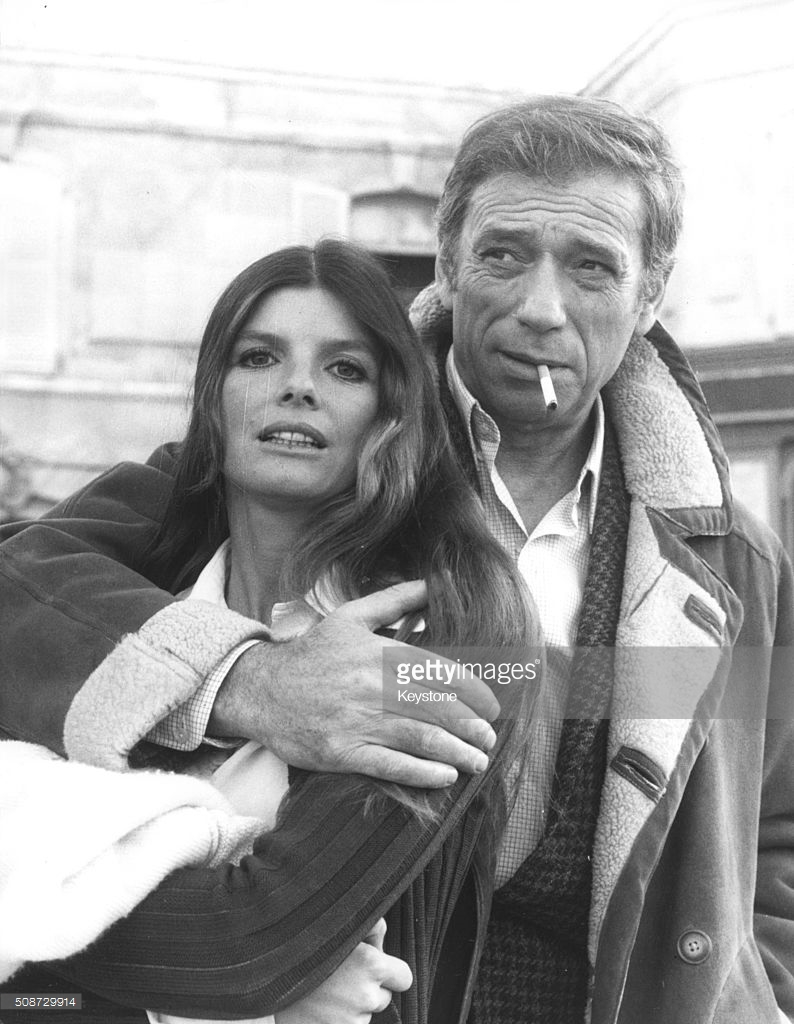cigarette: (538, 358, 563, 413)
